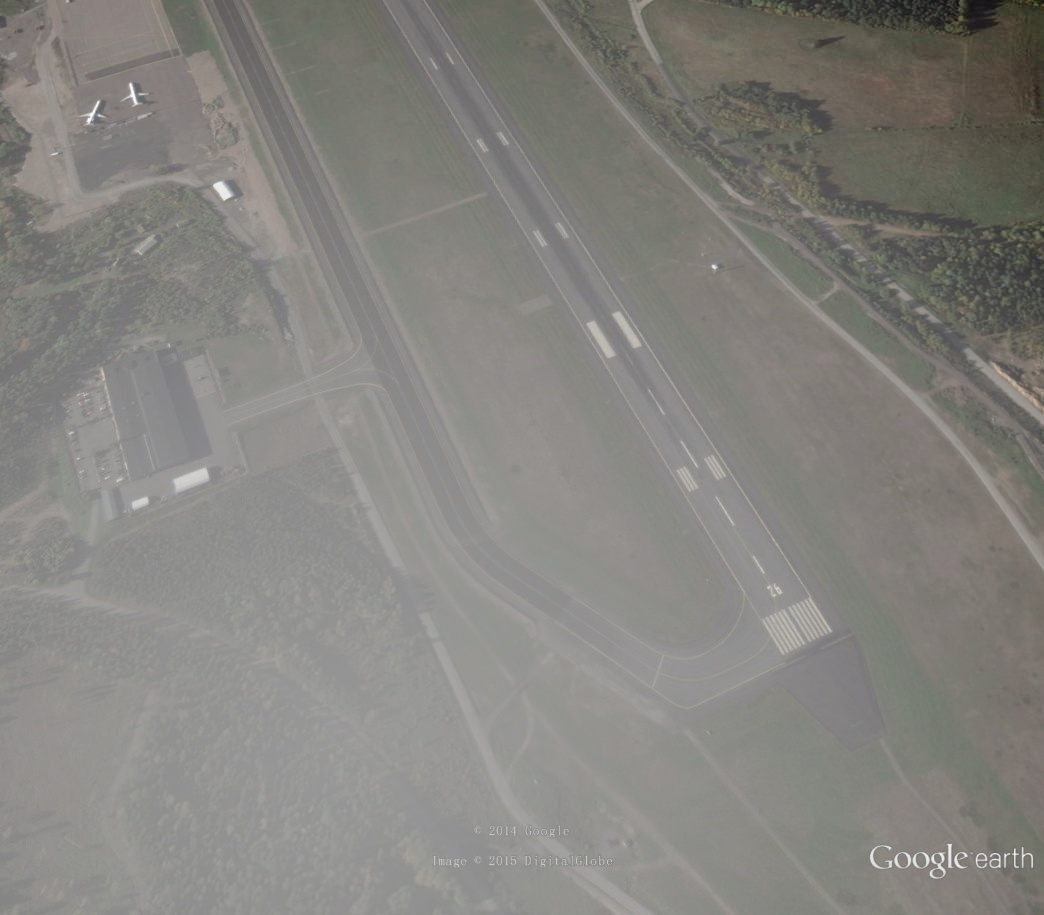aircraft: (76, 98, 111, 132), (120, 79, 154, 110)
